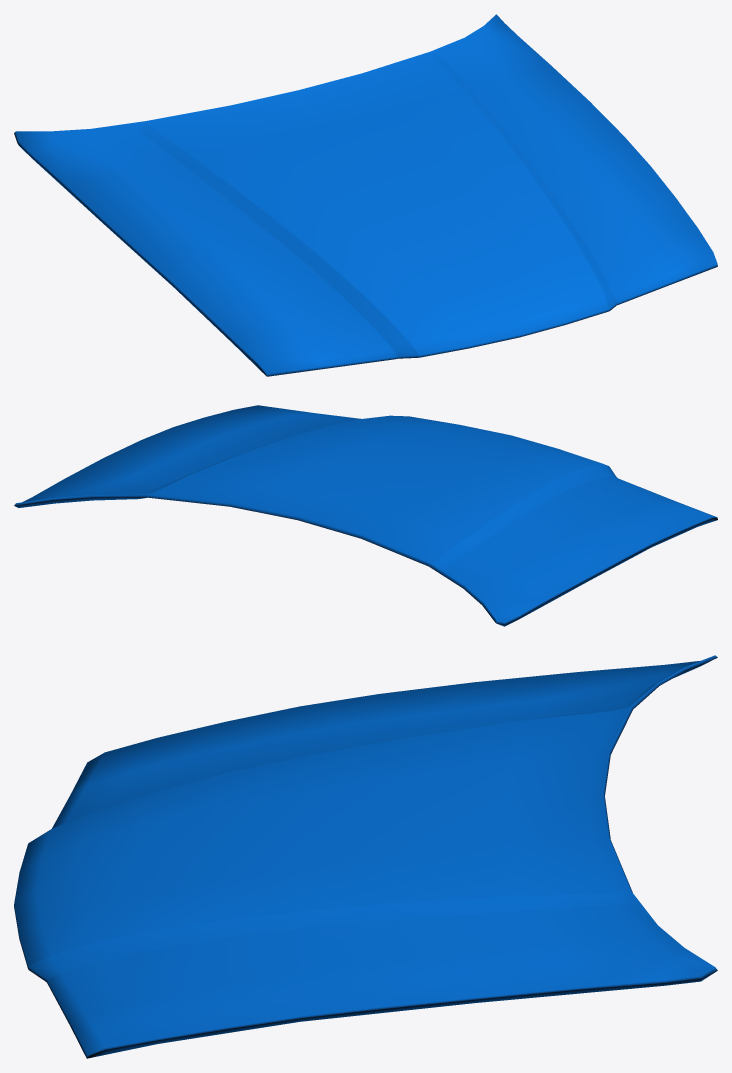
The model's file is BMW_E36_Bonnet02_Duco.fbx.
3 renders of one model, top to bottom at view 1: azimuth 30°, elevation 25°; view 2: azimuth 150°, elevation 25°; view 3: azimuth 270°, elevation 25°, orthographic. The views are drawn at different scales.
Visible parts, largest first — view 1: BMW_E36_Bonnet02_Duco; view 2: BMW_E36_Bonnet02_Duco; view 3: BMW_E36_Bonnet02_Duco.
Part boxes in pixels (<box>): BMW_E36_Bonnet02_Duco: <box>14,14,717,376</box>; BMW_E36_Bonnet02_Duco: <box>14,405,717,626</box>; BMW_E36_Bonnet02_Duco: <box>14,655,717,1058</box>.
Size of the model in its own units: 1.43 by 0.2515 by 1.35.
